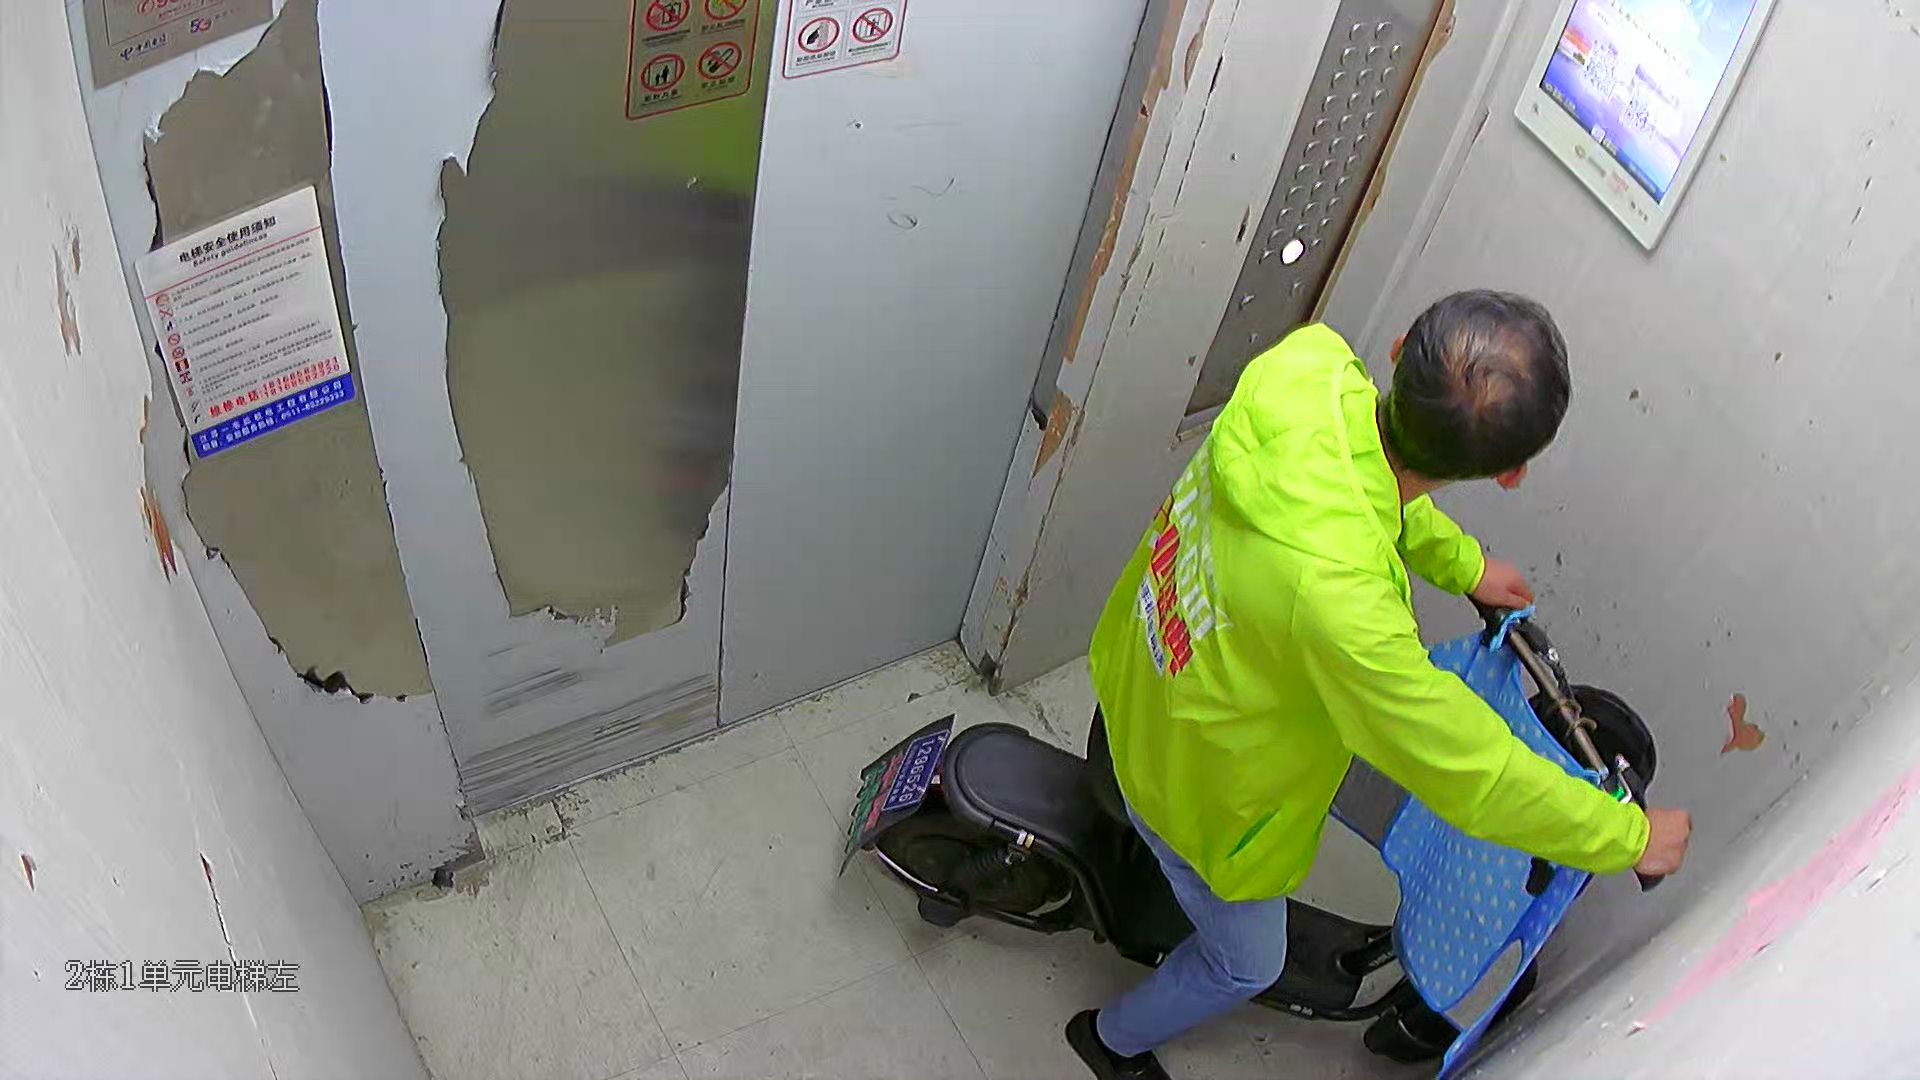Electric-bicycle: (836, 574, 1665, 1048)
